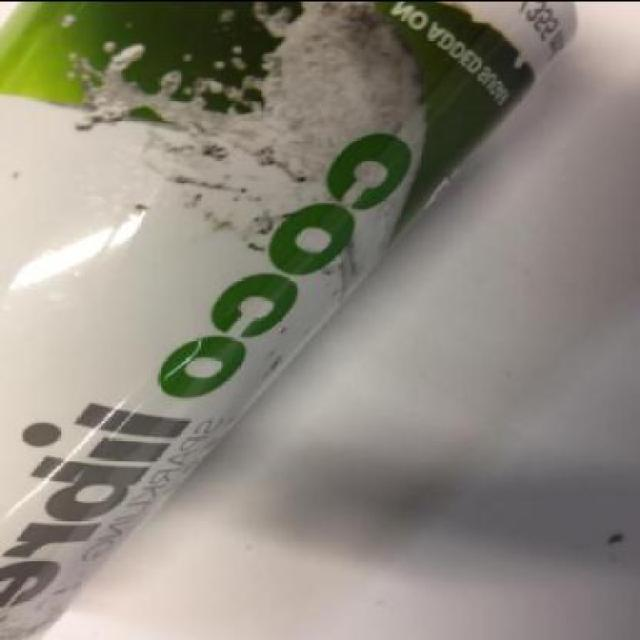METAL: (0, 1, 572, 638)
